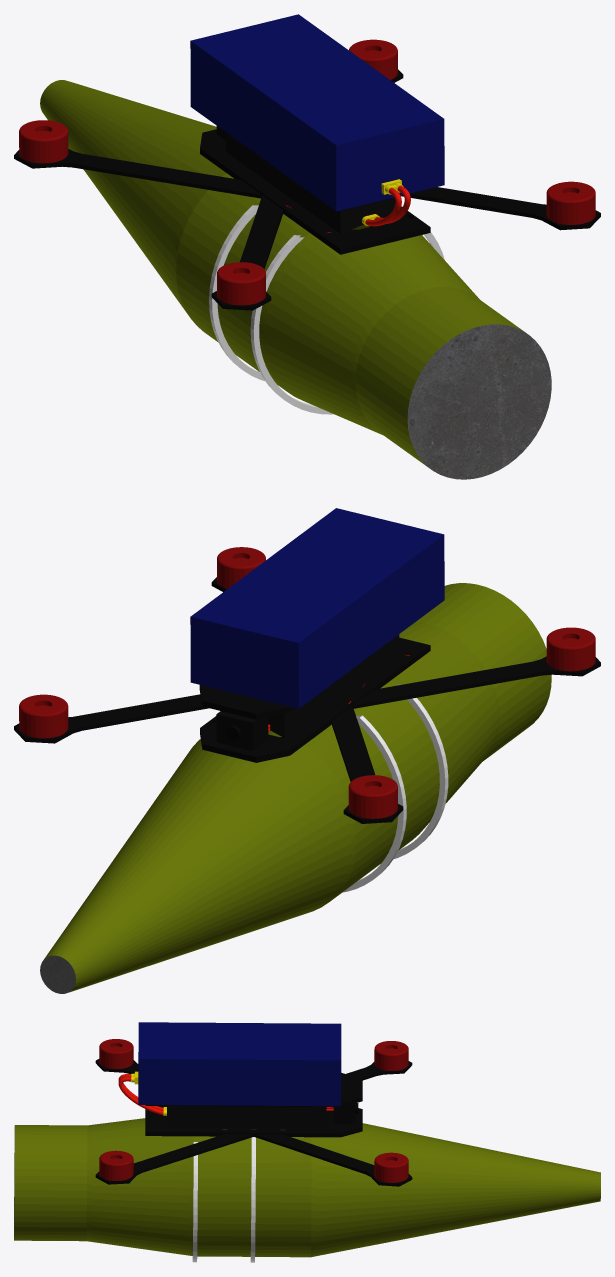
File: FPVdron2.fbx
3 views of the same model, one above another, from view 1: azimuth 30°, elevation 25°; view 2: azimuth 150°, elevation 25°; view 3: azimuth 270°, elevation 25° (orthographic). The views are drawn at different scales.
Parts seen in each view (by area): view 1: dronFpv; view 2: dronFpv; view 3: dronFpv.
Boxes of the visible parts, bbox=[...] form: dronFpv: bbox=[14, 14, 600, 479]; dronFpv: bbox=[14, 508, 600, 993]; dronFpv: bbox=[14, 1022, 600, 1262].
Size of the model in its own units: 41.92 by 32.73 by 81.07.
Materials: 11 (6 with a texture image).
